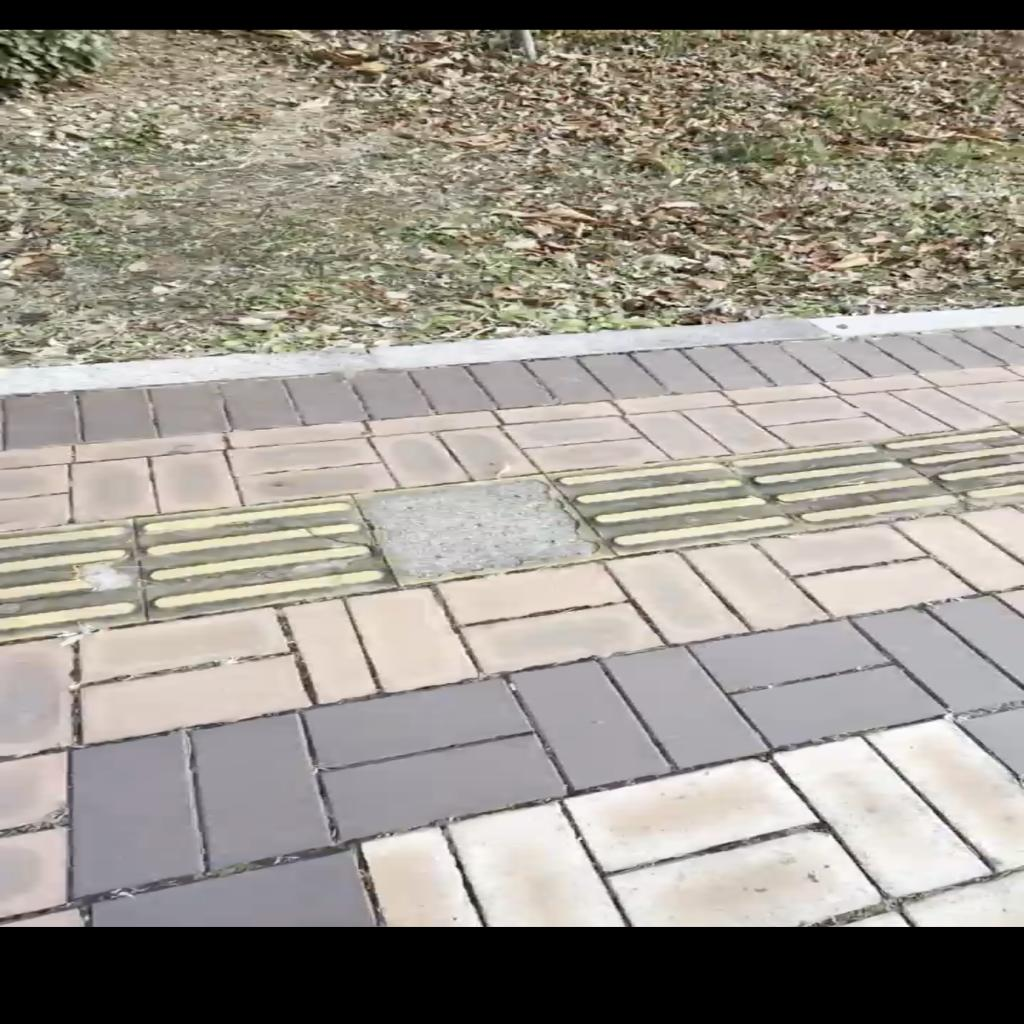Straight block broken: (353, 461, 616, 591)
Straight block normal: (136, 485, 398, 620), (548, 440, 804, 564), (717, 424, 971, 542)
